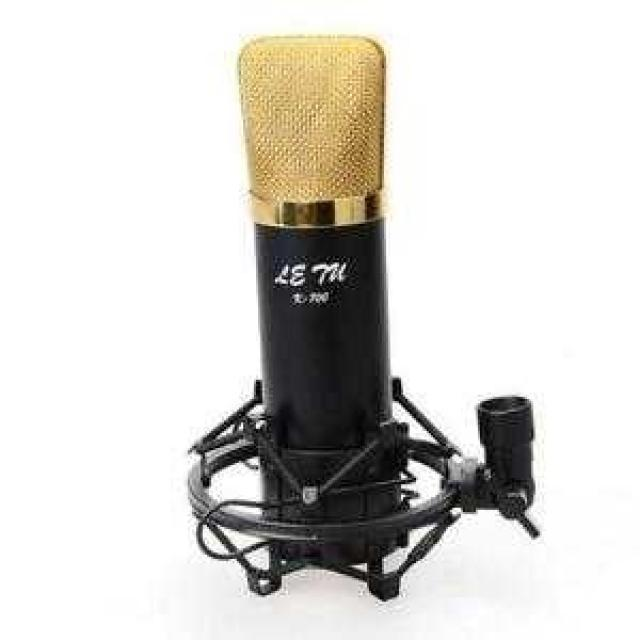microphone: (243, 34, 389, 462)
